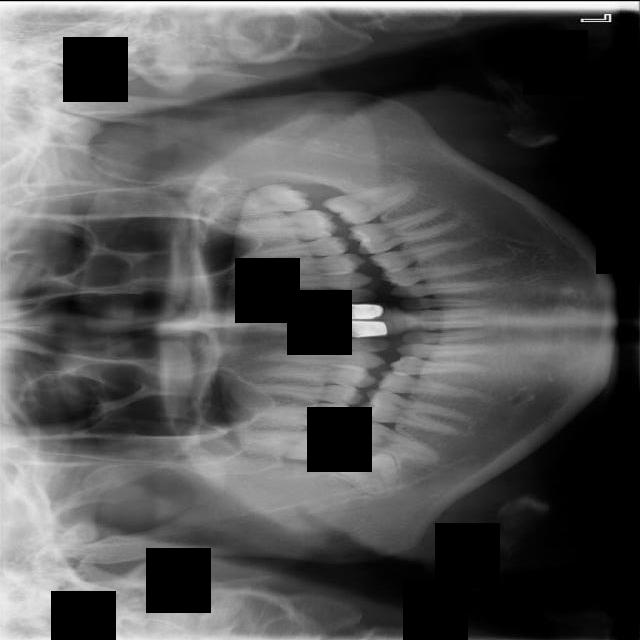52: (340, 319, 388, 338), (336, 302, 385, 320)
73: (267, 306, 340, 322), (566, 70, 586, 80)
BioHorizons Implant: (213, 179, 315, 219)
Blue Sky Bio Implant: (319, 178, 420, 231)
Caries: (211, 429, 334, 460)
Implant: (338, 416, 441, 464)
Keystone Dental Implant: (333, 444, 403, 505)
